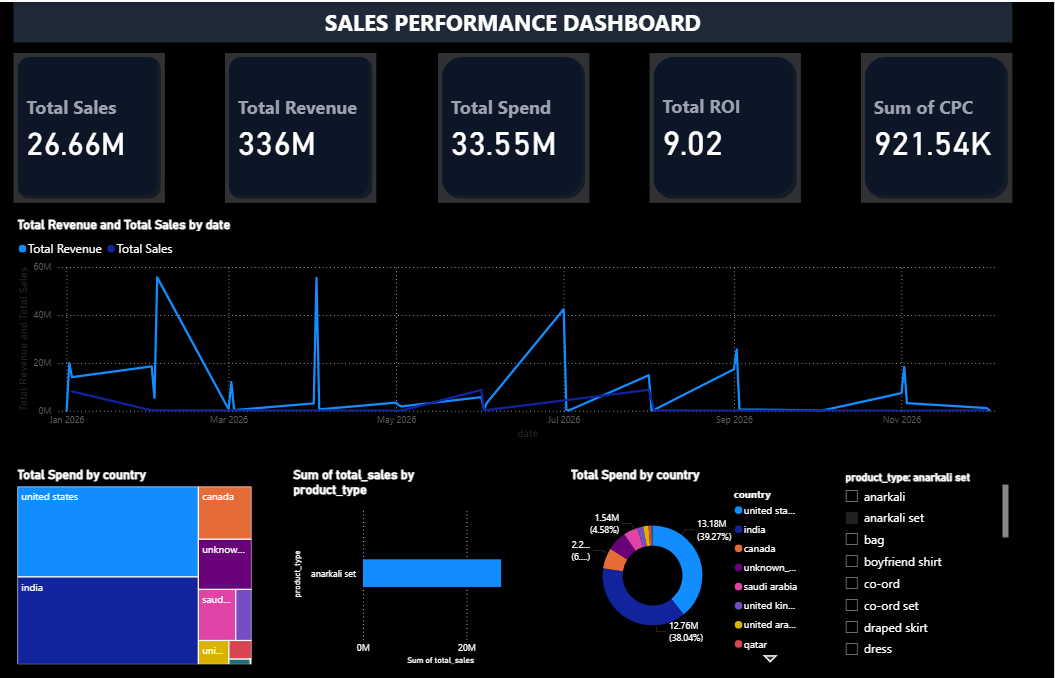

The page's visual inventory and layout, read from the dashboard file:
{"tool":"powerbi","page":{"name":"Page 1","canvas":[1400,900],"ordinal":0},"visuals":[{"type":"cardVisual","fields":{"Data":["fact_campaign.Total Sales"]},"box":[21.9,67.6,200.8,198.8],"z":0},{"type":"cardVisual","fields":{"Data":["fact_campaign.Total Spend"]},"box":[583.6,67.6,200.8,198.8],"z":1000},{"type":"cardVisual","fields":{"Data":["fact_campaign.Total ROI"]},"box":[864.4,67.6,200.8,198.8],"z":2000},{"type":"cardVisual","fields":{"Data":["fact_campaign.Total Revenue"]},"box":[302.7,67.6,200.8,198.8],"z":3000},{"type":"lineChart","fields":{"Y":["fact_campaign.Total Revenue","fact_campaign.Total Sales"],"Category":["date_dim.date"]},"box":[21.9,284.3,1324.2,300.2],"z":4000},{"type":"clusteredBarChart","fields":{"Y":["Sum(fact_sales.total_sales)"],"Category":["fact_sales.product_type"]},"box":[387.7,616.4,320.1,266.4],"z":5000},{"type":"donutChart","fields":{"Category":["fact_campaign.country"],"Y":["fact_campaign.Total Spend"]},"box":[755.5,616.4,320.1,266.4],"z":6000},{"type":"treemap","fields":{"Group":["fact_campaign.country"],"Values":["fact_campaign.Total Spend"]},"box":[21.9,616.4,320.1,266.4],"z":7000},{"type":"cardVisual","fields":{"Data":["Sum(fact_campaign.CPC)"]},"box":[1145.2,67.6,200.8,198.8],"z":8000},{"type":"shape","box":[21.9,0,1324.2,53.7],"z":9000},{"type":"slicer","fields":{"Values":["fact_sales.product_type"]},"box":[1111.4,616.4,234.6,266.4],"z":10000}]}

Visuals, with their boxes in screenshot pixels (x1, y1, x2, y2), scaled from the page's 1400x900 canvas onto the 1055x678 screenshot:
cardVisual - fact_campaign.Total Sales: [17, 51, 168, 201]
cardVisual - fact_campaign.Total Spend: [440, 51, 591, 201]
cardVisual - fact_campaign.Total ROI: [651, 51, 803, 201]
cardVisual - fact_campaign.Total Revenue: [228, 51, 379, 201]
lineChart - fact_campaign.Total Revenue x fact_campaign.Total Sales: [17, 214, 1014, 440]
clusteredBarChart - Sum(fact_sales.total_sales) x fact_sales.product_type: [292, 464, 533, 665]
donutChart - fact_campaign.country x fact_campaign.Total Spend: [569, 464, 811, 665]
treemap - fact_campaign.country x fact_campaign.Total Spend: [17, 464, 258, 665]
cardVisual - Sum(fact_campaign.CPC): [863, 51, 1014, 201]
shape: [17, 0, 1014, 40]
slicer - fact_sales.product_type: [838, 464, 1014, 665]
